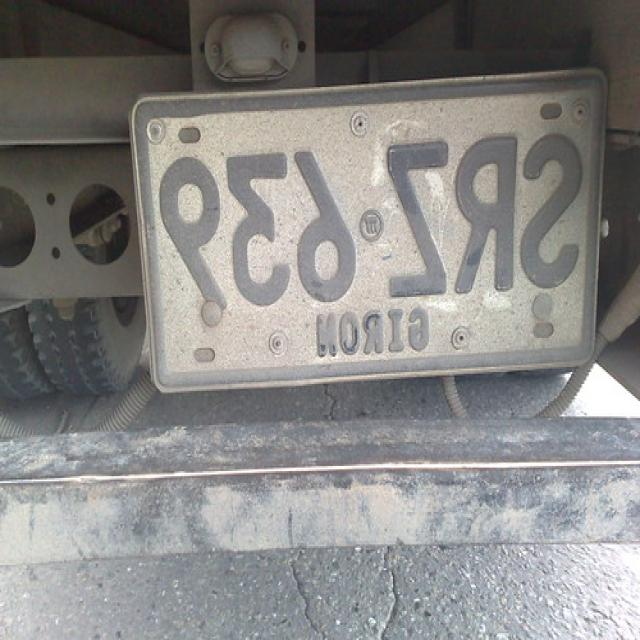placas: (140, 120, 586, 324)
